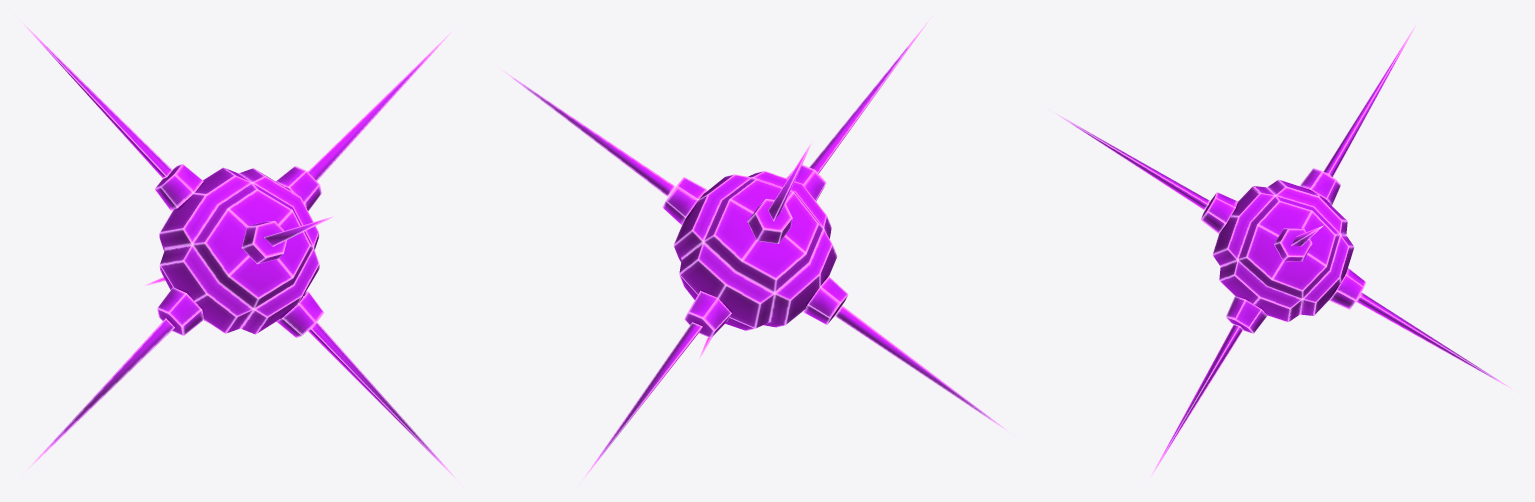
File: mine.FBX
The picture shows the model from 3 angles, left to right: view 1: azimuth 30°, elevation 25°; view 2: azimuth 150°, elevation 25°; view 3: azimuth 270°, elevation 25°; orthographic projection. The views are drawn at different scales.
Parts seen in each view (by area): view 1: mine; view 2: mine; view 3: mine.
Part boxes in pixels (left/top/right/bottom): mine: left=15, top=15, right=463, bottom=486; mine: left=495, top=16, right=1014, bottom=485; mine: left=1048, top=15, right=1518, bottom=486.
Bounding box in the file's own units: 36.31 × 30.08 × 36.31.
